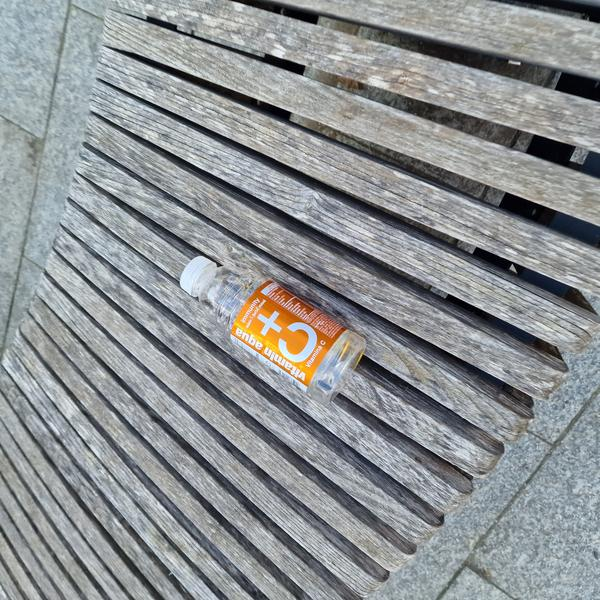plastic_bottle: (164, 231, 374, 408)
